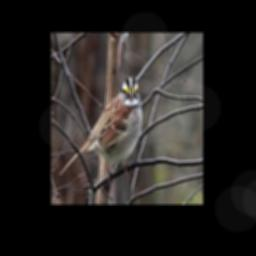Sparrow: (59, 77, 142, 177)
